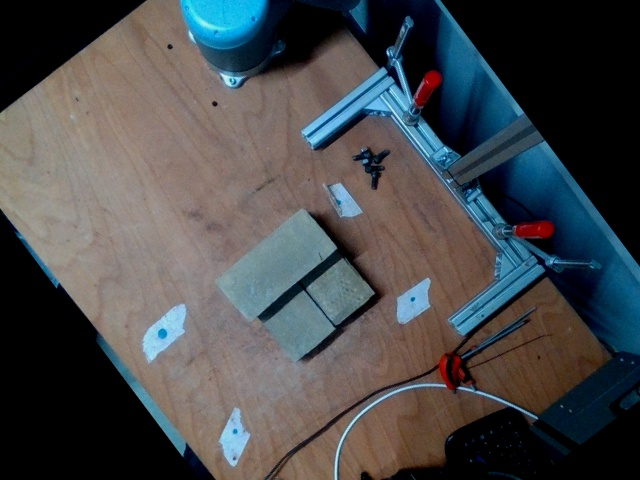brick: (214, 205, 337, 322)
